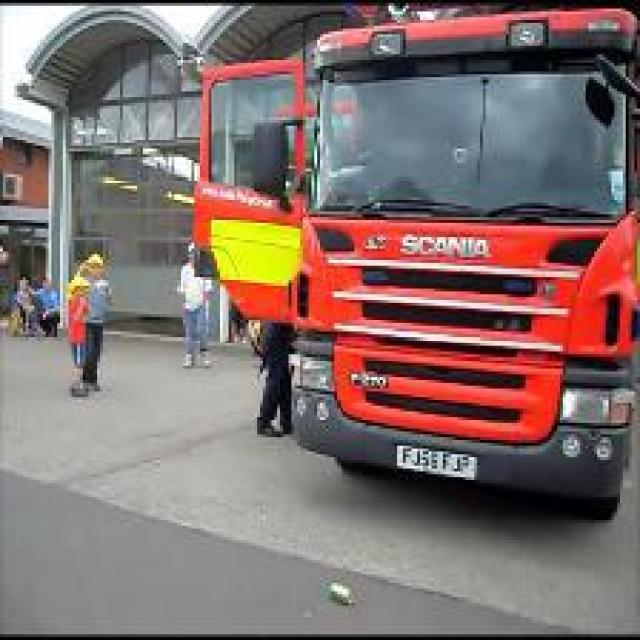other: (180, 184, 429, 341), (68, 231, 104, 307)
